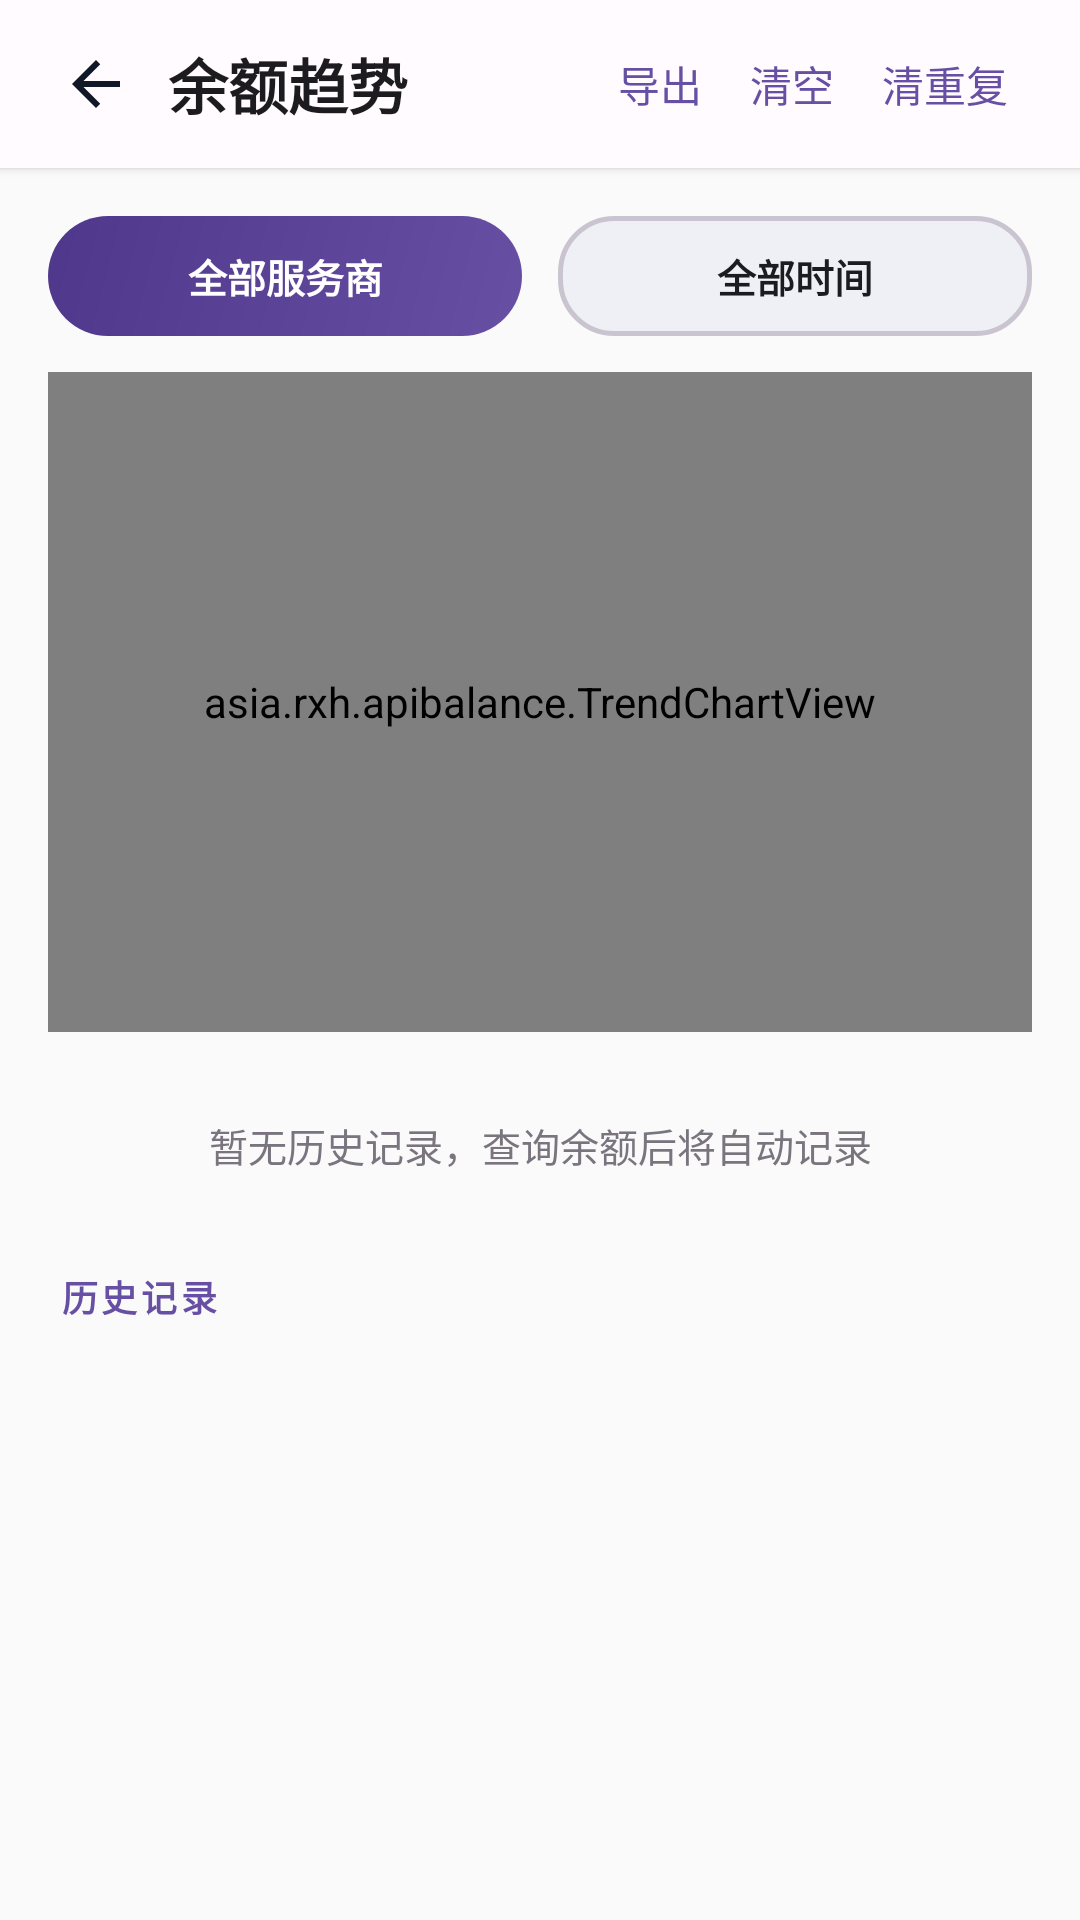

Where icons sit on this 1080px×1920px app screen, as bbox=[x1, y1, x2, y2]:
返回: bbox=[72, 60, 120, 108]
